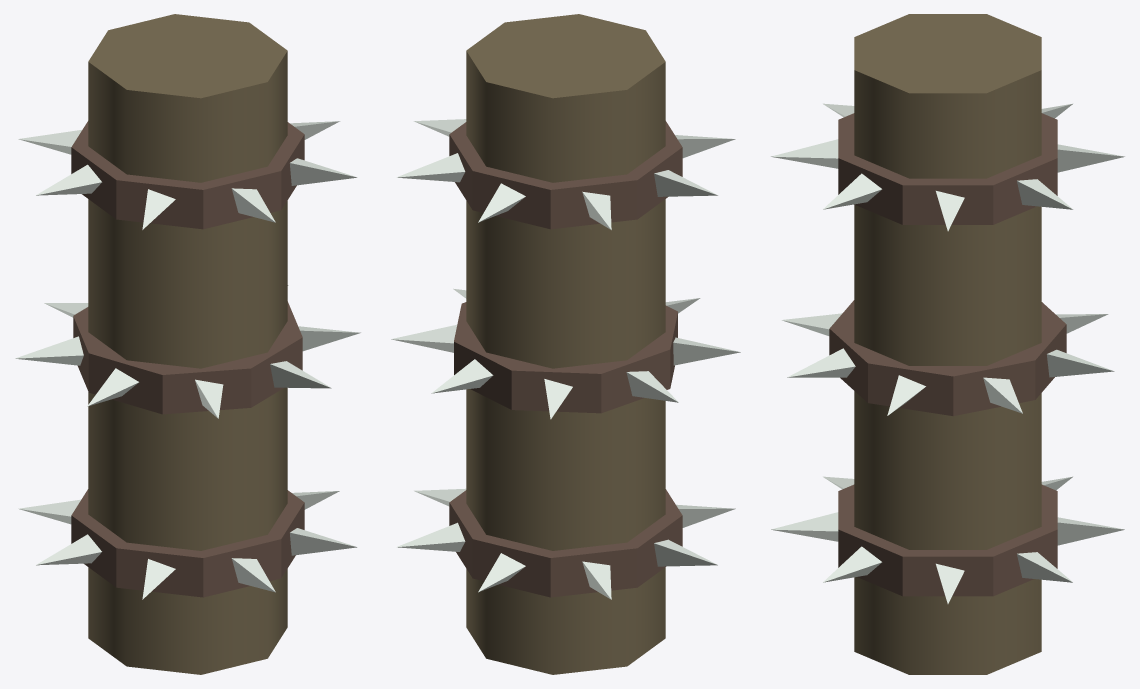
3 renders of one model, left to right at view 1: azimuth 30°, elevation 25°; view 2: azimuth 150°, elevation 25°; view 3: azimuth 270°, elevation 25°, orthographic.
Parts seen in each view (by area): view 1: Object001_wood_0, Object001_metal_0, Object001_steel_0; view 2: Object001_wood_0, Object001_metal_0, Object001_steel_0; view 3: Object001_wood_0, Object001_metal_0, Object001_steel_0.
Part boxes in pixels (left/top/right/bottom): Object001_wood_0: left=88, top=14, right=287, bottom=674; Object001_metal_0: left=71, top=121, right=304, bottom=597; Object001_steel_0: left=15, top=121, right=360, bottom=599; Object001_wood_0: left=466, top=14, right=665, bottom=674; Object001_metal_0: left=449, top=121, right=682, bottom=597; Object001_steel_0: left=391, top=119, right=740, bottom=599; Object001_wood_0: left=854, top=14, right=1041, bottom=674; Object001_metal_0: left=829, top=113, right=1066, bottom=596; Object001_steel_0: left=771, top=103, right=1124, bottom=603.
Bounding box in the file's own units: 1.11 × 2 × 1.11.
